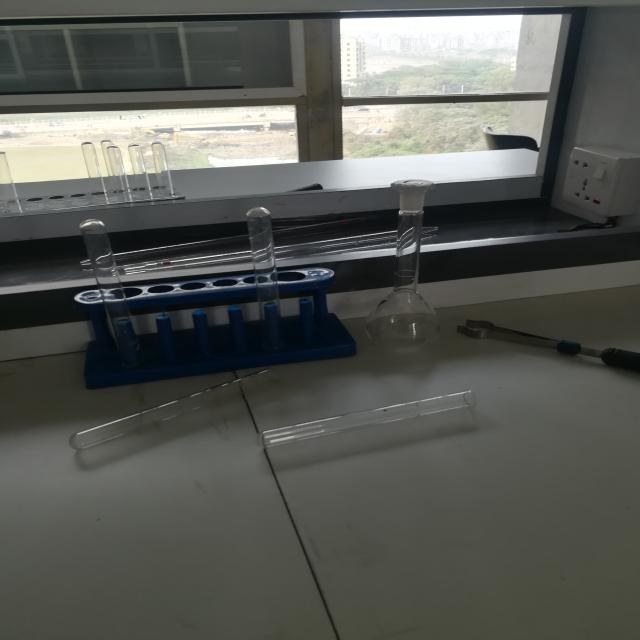Test_Tube: (53, 341, 321, 464), (43, 208, 172, 412), (247, 374, 503, 468), (216, 189, 326, 363)
Volumetric_Flask: (353, 165, 471, 358)
